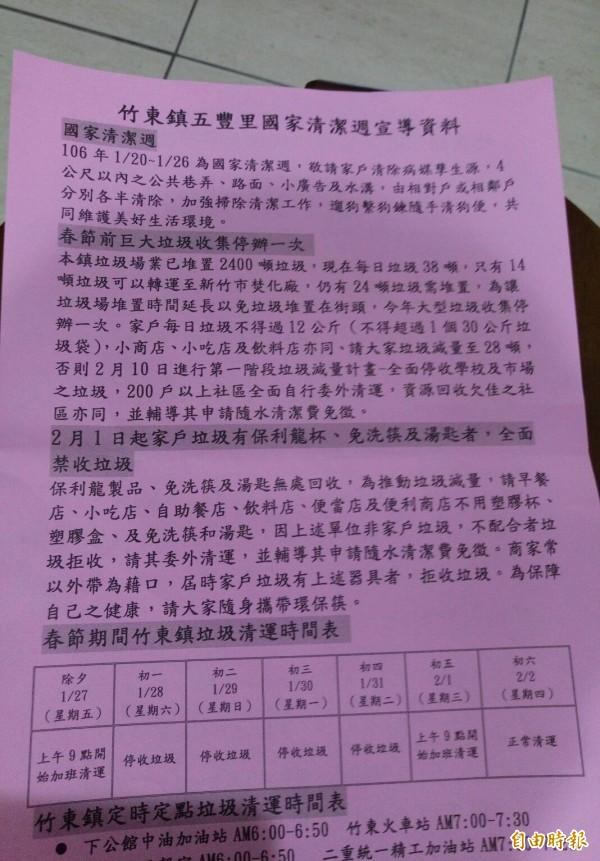paper: (2, 53, 600, 861)
